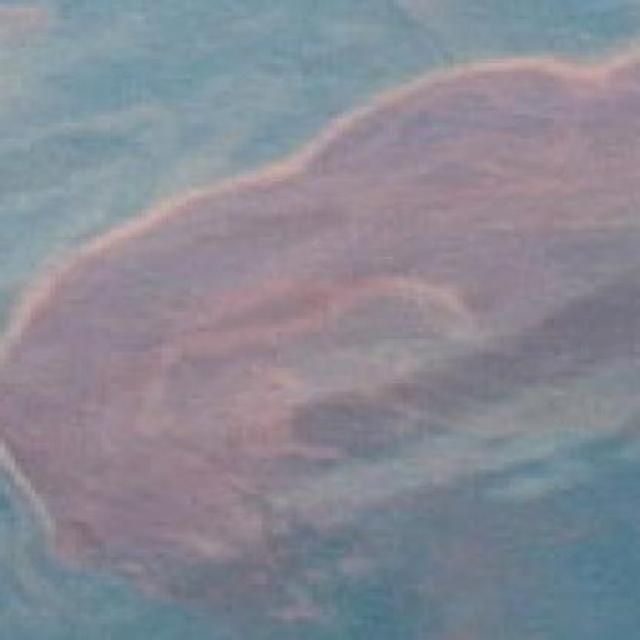sheen: (0, 52, 640, 640)
